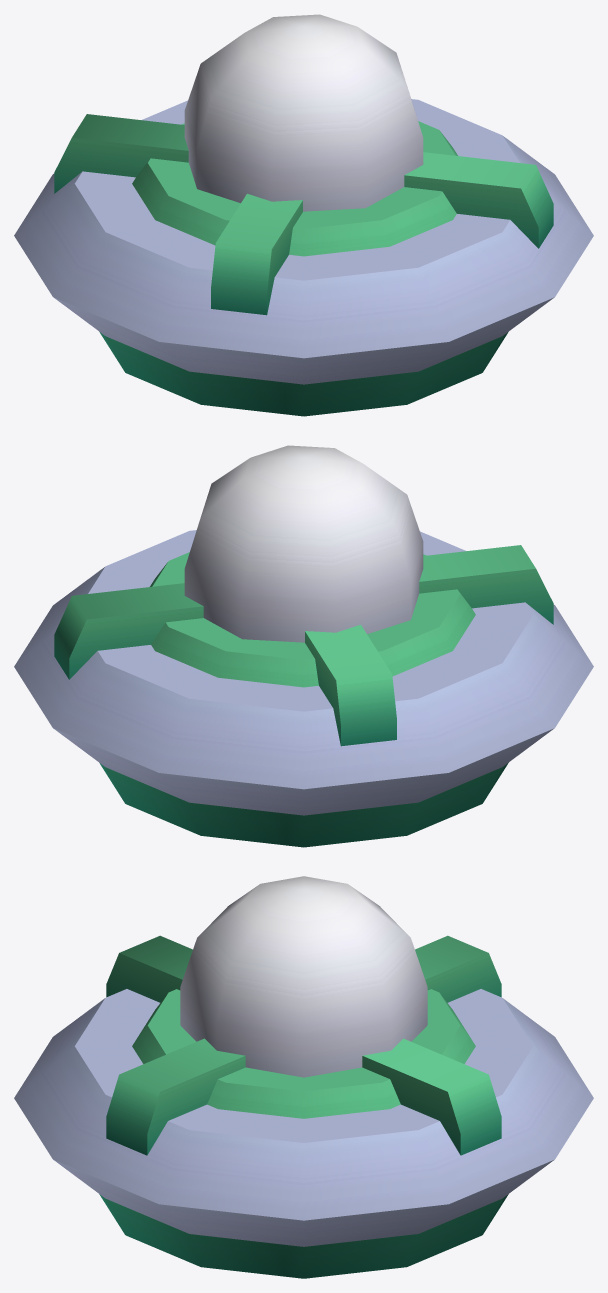
Rendered from enemy-ufo-b.glb.
3 views of the same model, one above another, from view 1: azimuth 30°, elevation 25°; view 2: azimuth 150°, elevation 25°; view 3: azimuth 270°, elevation 25° (orthographic).
Parts seen in each view (by area): view 1: enemy-ufo-b; view 2: enemy-ufo-b; view 3: enemy-ufo-b.
Part boxes in pixels (bbox=[...]): enemy-ufo-b: bbox=[14, 14, 593, 416]; enemy-ufo-b: bbox=[14, 445, 593, 847]; enemy-ufo-b: bbox=[14, 876, 593, 1278].
Size of the model in its own units: 0.9993 by 0.5754 by 1.
1 material, 1 textured.
